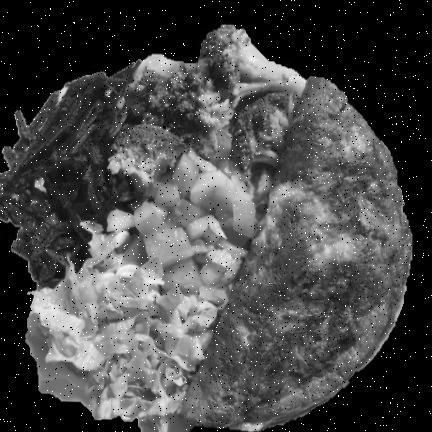beet: (0, 63, 151, 286)
broccoli: (113, 26, 306, 177)
egg: (179, 78, 411, 430)
salad: (30, 223, 231, 432)
tomato: (124, 155, 255, 292)
